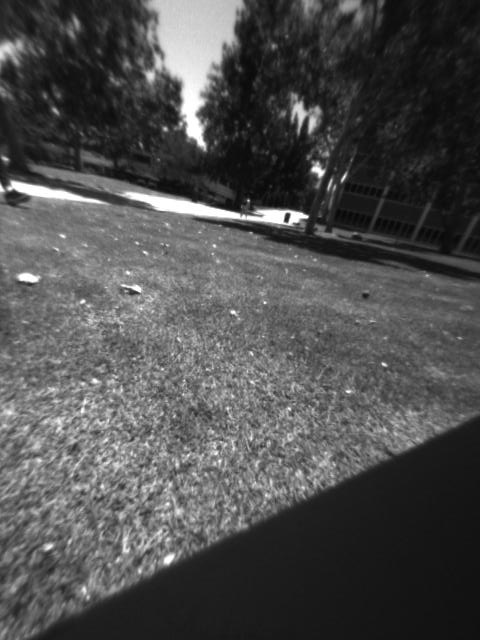dogtoy: (353, 285, 382, 303)
